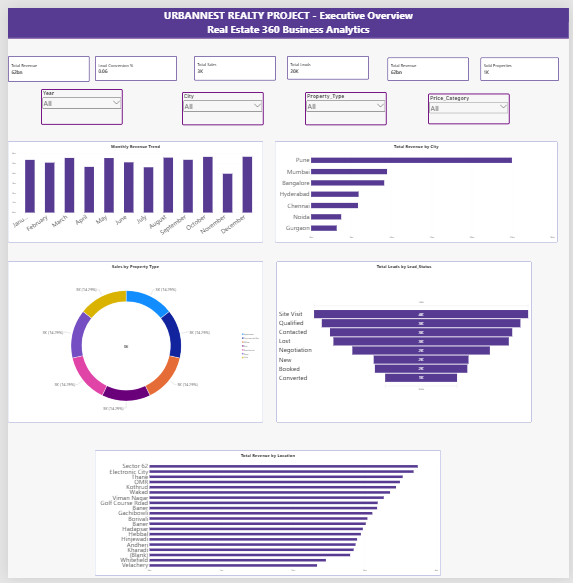

The page's visual inventory and layout, read from the dashboard file:
{"tool":"powerbi","page":{"name":"01-Executive overview dashboard","canvas":[3740,3800],"ordinal":0},"visuals":[{"type":"shape","title":"URBANNEST REALTY PROJECT - Executive Overview","box":[0,0,3738.9,205.6],"z":0},{"type":"cardVisual","fields":{"Data":["Fact_Sales.Total Revenue"]},"box":[0,316.7,543.3,173.3],"z":1000},{"type":"cardVisual","fields":{"Data":["Fact_Leads.Lead Conversion %"]},"box":[582.8,324.1,546.7,166.7],"z":2000},{"type":"cardVisual","fields":{"Data":["Fact_Sales.Total Sales"]},"box":[1244.4,316.7,546.7,163.3],"z":3000},{"type":"cardVisual","fields":{"Data":["Fact_Leads.Total Leads"]},"box":[1855.6,322.2,546.7,156.7],"z":4000},{"type":"cardVisual","fields":{"Data":["Dim_Property.Sold Properties"]},"box":[3150,327.8,523.3,156.7],"z":5000},{"type":"cardVisual","fields":{"Data":["Fact_Sales.Total Revenue"]},"box":[2527.8,333.3,543.3,156.7],"z":6000},{"type":"lineClusteredColumnComboChart","title":"Monthly Revenue Trend","fields":{"Category":["Dim_Date.Date.Variation.Date Hierarchy.Month"],"Y":["Fact_Sales.Total Revenue"]},"box":[0,888.9,1700,672.2],"z":7000},{"type":"clusteredBarChart","fields":{"Category":["Dim_Location.City"],"Y":["Fact_Sales.Total Revenue"]},"box":[1777.8,888.9,1883.3,672.2],"z":8000},{"type":"donutChart","title":"Sales by Property Type","fields":{"Category":["Dim_Property.Property_Type"],"Y":["Fact_Sales.Total Sales"]},"box":[0,1688.9,1700,1072.2],"z":9000},{"type":"funnel","fields":{"Category":["Fact_Leads.Lead_Status"],"Y":["Fact_Leads.Total Leads"]},"box":[1788.9,1688.9,1700,1072.2],"z":10000},{"type":"barChart","fields":{"Category":["Dim_Location.Location"],"Y":["Fact_Sales.Total Revenue"]},"box":[583.3,2950,2305.6,833.3],"z":11000},{"type":"slicer","fields":{"Values":["Dim_Date.Date.Variation.Date Hierarchy.Year"]},"box":[222.2,538.9,544.4,238.9],"z":12000},{"type":"slicer","fields":{"Values":["Dim_Location.City"]},"box":[1155.6,555.6,544.4,222.2],"z":13000},{"type":"slicer","fields":{"Values":["Dim_Property.Property_Type"]},"box":[1983.3,555.6,544.4,222.2],"z":14000},{"type":"slicer","fields":{"Values":["Dim_Property.Price_Category "]},"box":[2800,572.2,544.4,205.6],"z":15000}]}

Visuals, with their boxes in screenshot pixels (x1, y1, x2, y2), scaled from the page's 3740x3800 canvas onto the 573x583 screenshot:
"URBANNEST REALTY PROJECT - Executive Overview" shape: (0,0,572,32)
cardVisual - Fact_Sales.Total Revenue: (0,49,83,75)
cardVisual - Fact_Leads.Lead Conversion %: (89,50,173,75)
cardVisual - Fact_Sales.Total Sales: (191,49,274,74)
cardVisual - Fact_Leads.Total Leads: (284,49,368,73)
cardVisual - Dim_Property.Sold Properties: (483,50,563,74)
cardVisual - Fact_Sales.Total Revenue: (387,51,471,75)
"Monthly Revenue Trend" lineClusteredColumnComboChart: (0,136,260,240)
clusteredBarChart - Dim_Location.City x Fact_Sales.Total Revenue: (272,136,561,240)
"Sales by Property Type" donutChart: (0,259,260,424)
funnel - Fact_Leads.Lead_Status x Fact_Leads.Total Leads: (274,259,535,424)
barChart - Dim_Location.Location x Fact_Sales.Total Revenue: (89,453,443,580)
slicer - Dim_Date.Date.Variation.Date Hierarchy.Year: (34,83,117,119)
slicer - Dim_Location.City: (177,85,260,119)
slicer - Dim_Property.Property_Type: (304,85,387,119)
slicer - Dim_Property.Price_Category : (429,88,512,119)
